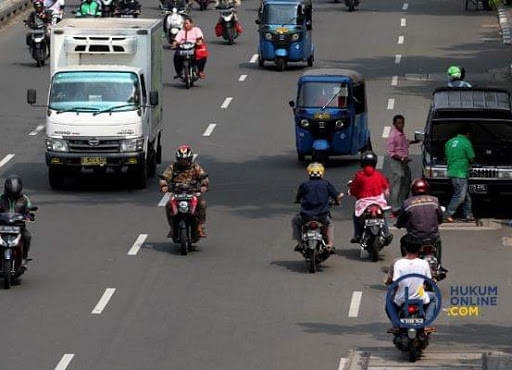car: (32, 16, 167, 187), (426, 85, 512, 212), (292, 68, 374, 164), (256, 2, 316, 72)
motorbike: (384, 232, 435, 364), (162, 146, 215, 256), (398, 179, 448, 287), (348, 154, 395, 263), (295, 161, 339, 275), (1, 177, 37, 286), (173, 12, 205, 88), (27, 2, 52, 69)
